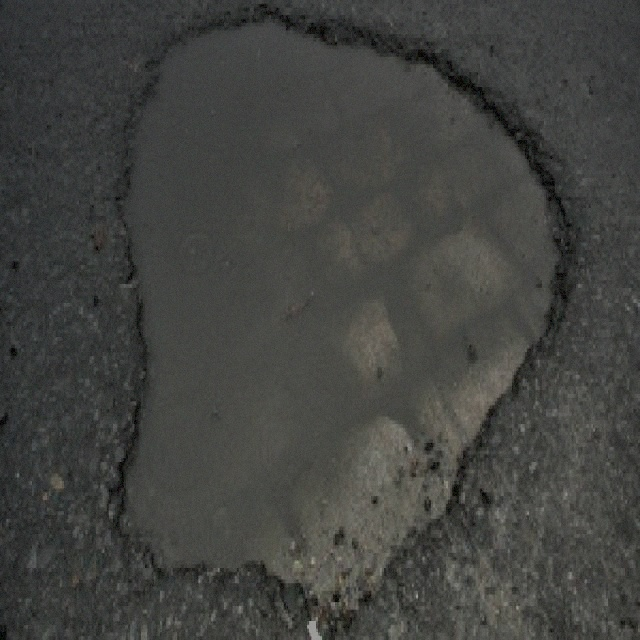pothole: (109, 4, 572, 617)
